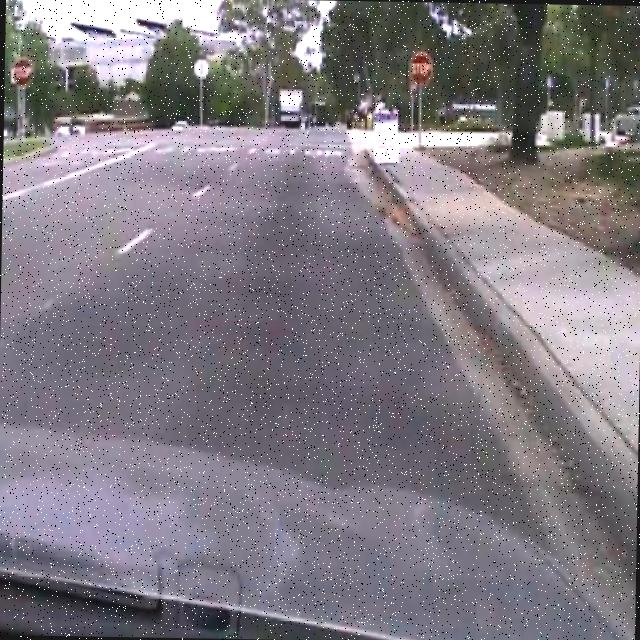Stop: (405, 48, 435, 86)
